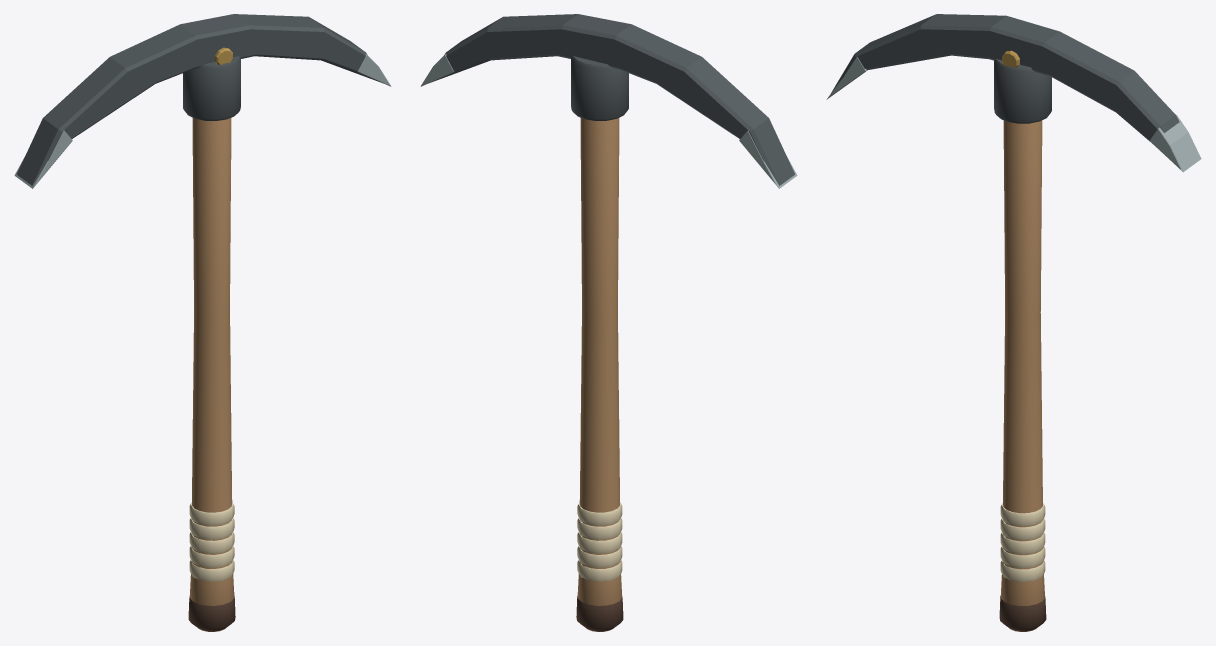
File: tool_pickaxe.glb
3 views of the same model, side by side, from view 1: azimuth 30°, elevation 25°; view 2: azimuth 150°, elevation 25°; view 3: azimuth 330°, elevation 25° (orthographic).
Visible parts, largest first — view 1: tool_pickaxe; view 2: tool_pickaxe; view 3: tool_pickaxe.
Part boxes in pixels (box(x1,y1,x2,y2)): tool_pickaxe: box(14, 14, 391, 631); tool_pickaxe: box(420, 14, 797, 631); tool_pickaxe: box(826, 14, 1201, 631).
Bounding box in the file's own units: 0.536 × 0.858 × 0.076.
